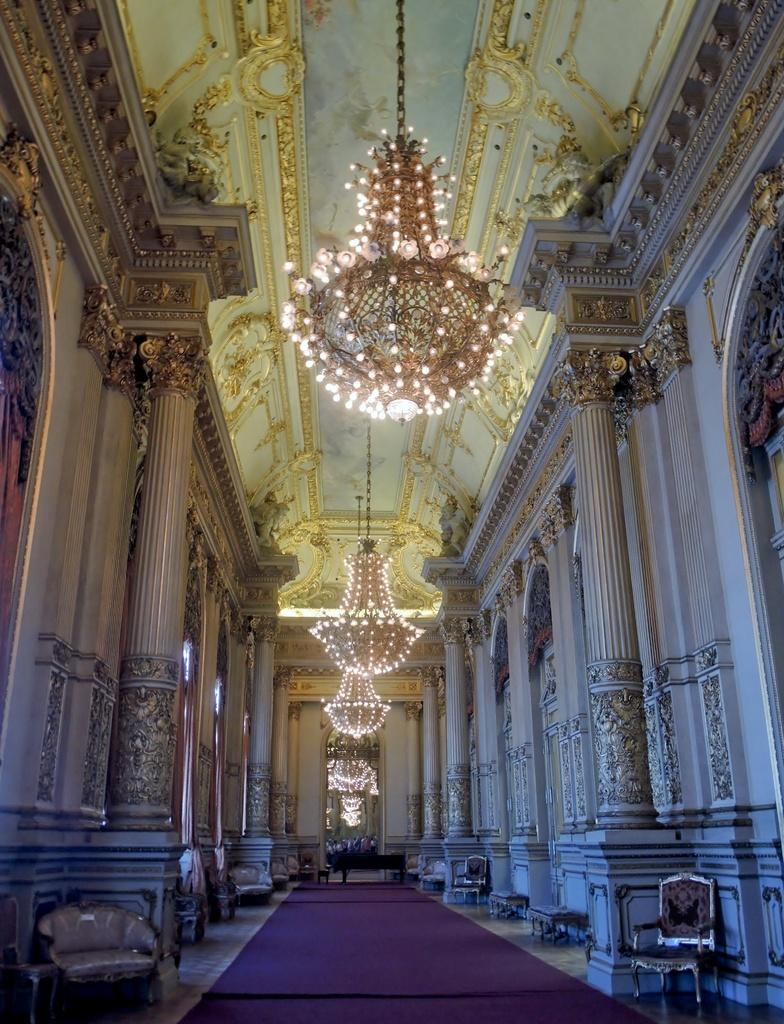Chair: (629, 871, 719, 1003)
